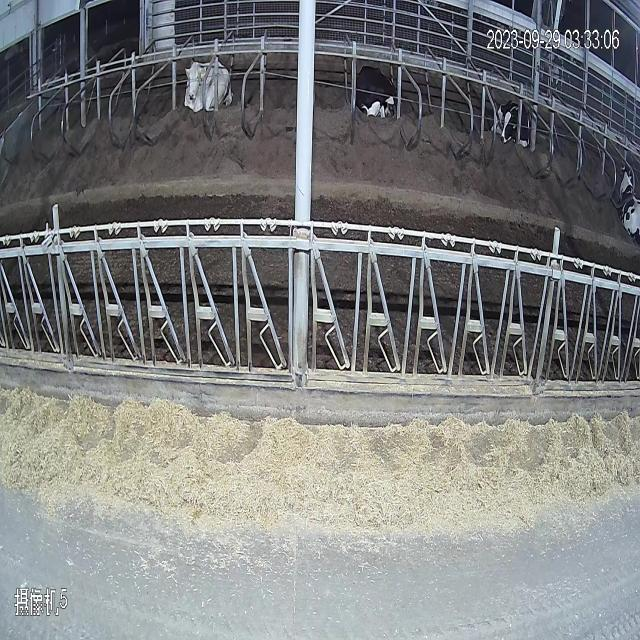lying down: (352, 48, 402, 152), (180, 43, 238, 128), (488, 90, 538, 164), (609, 140, 640, 253)
